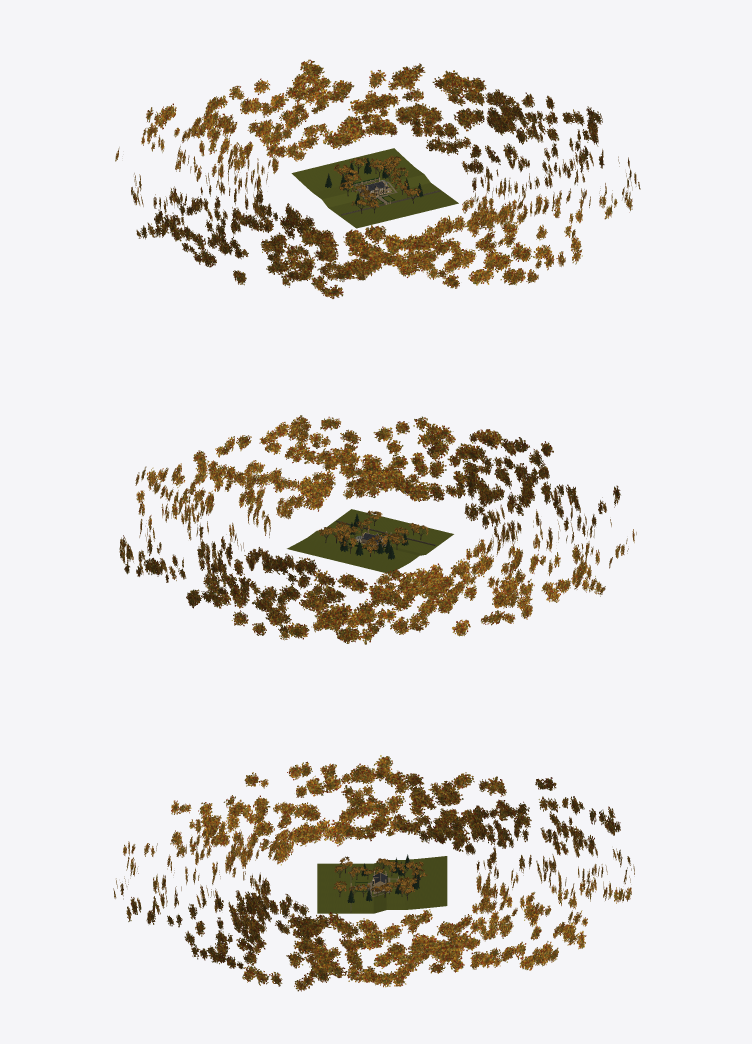
The model's file is manor.gltf.
The picture shows the model from 3 angles, top to bottom: view 1: azimuth 30°, elevation 25°; view 2: azimuth 150°, elevation 25°; view 3: azimuth 270°, elevation 25°; orthographic projection.
Visible parts, largest first — view 1: 远景_树林, 地形-col, 植物_秋叶团; view 2: 远景_树林, 地形-col, 植物_秋叶团; view 3: 远景_树林, 地形-col, 植物_秋叶团.
Part boxes in pixels (bbox=[...]): 远景_树林: bbox=[115, 59, 640, 298]; 地形-col: bbox=[291, 148, 458, 228]; 植物_秋叶团: bbox=[334, 156, 421, 207]; 远景_树林: bbox=[119, 415, 636, 644]; 地形-col: bbox=[287, 509, 453, 573]; 植物_秋叶团: bbox=[318, 510, 428, 552]; 远景_树林: bbox=[113, 755, 634, 991]; 地形-col: bbox=[317, 856, 447, 913]; 植物_秋叶团: bbox=[333, 856, 427, 895].
Size of what is drawn, in the model's own units: 640 by 37.01 by 640.
Materials: 34 (24 with a texture image).
